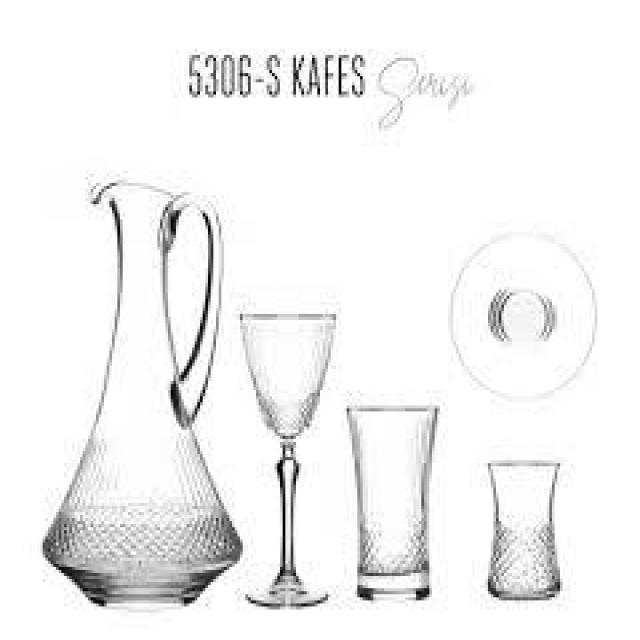non-organic waste: (40, 177, 245, 606), (232, 311, 339, 603), (343, 400, 441, 600), (478, 460, 566, 600)
